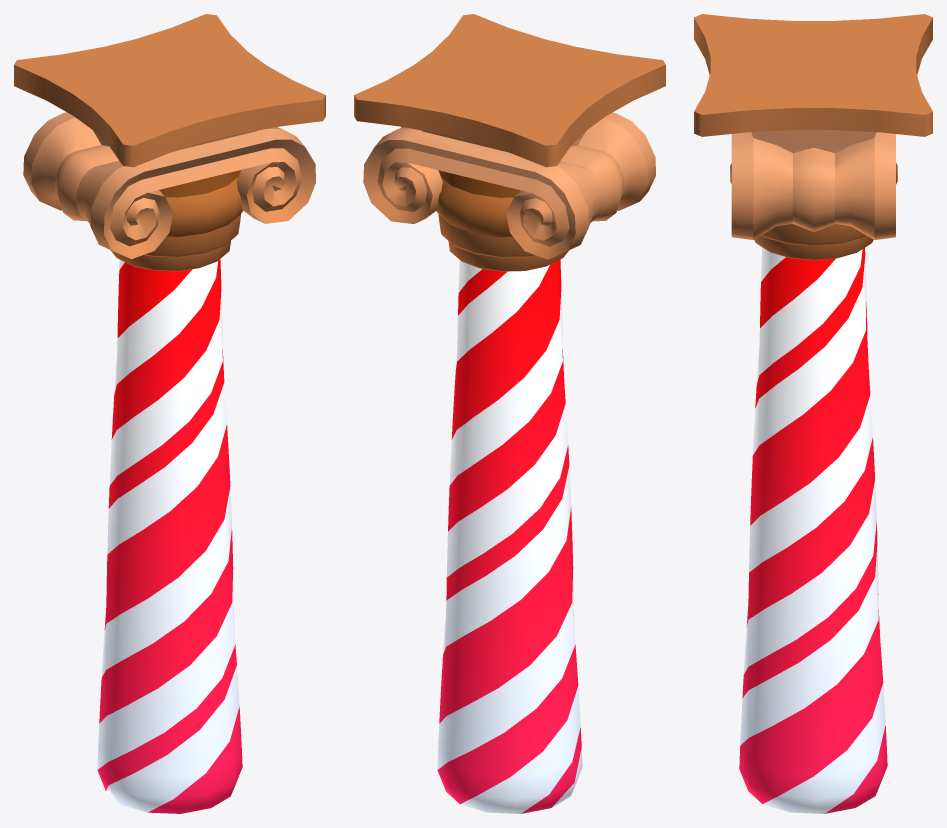
File: Column_01.glb
3 renders of one model, left to right at view 1: azimuth 30°, elevation 25°; view 2: azimuth 150°, elevation 25°; view 3: azimuth 270°, elevation 25°, orthographic. The views are drawn at different scales.
Visible parts, largest first — view 1: Column_01; view 2: Column_01; view 3: Column_01.
Part boxes in pixels (x1,y1,x2,y2): Column_01: (14,14,325,813); Column_01: (354,14,665,813); Column_01: (694,14,932,813).
Size of the model in its own units: 1.94 by 6 by 1.78.
2 materials, 2 textured.
